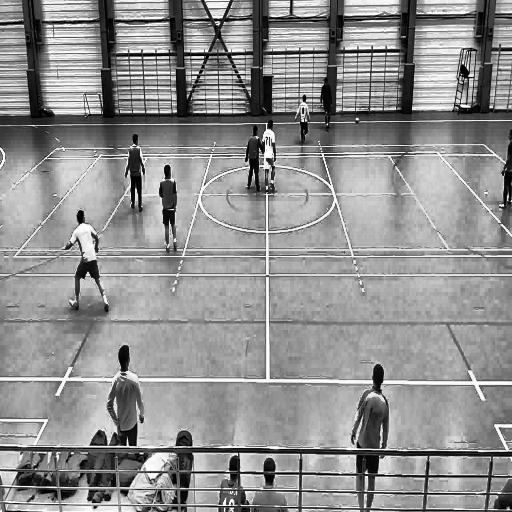ball: (354, 115, 361, 125)
player: (349, 361, 391, 509), (61, 208, 111, 316), (104, 339, 146, 446), (156, 162, 180, 256), (492, 114, 512, 212), (124, 132, 146, 214), (243, 123, 262, 195), (262, 119, 278, 196), (292, 94, 312, 147), (319, 76, 333, 133)
